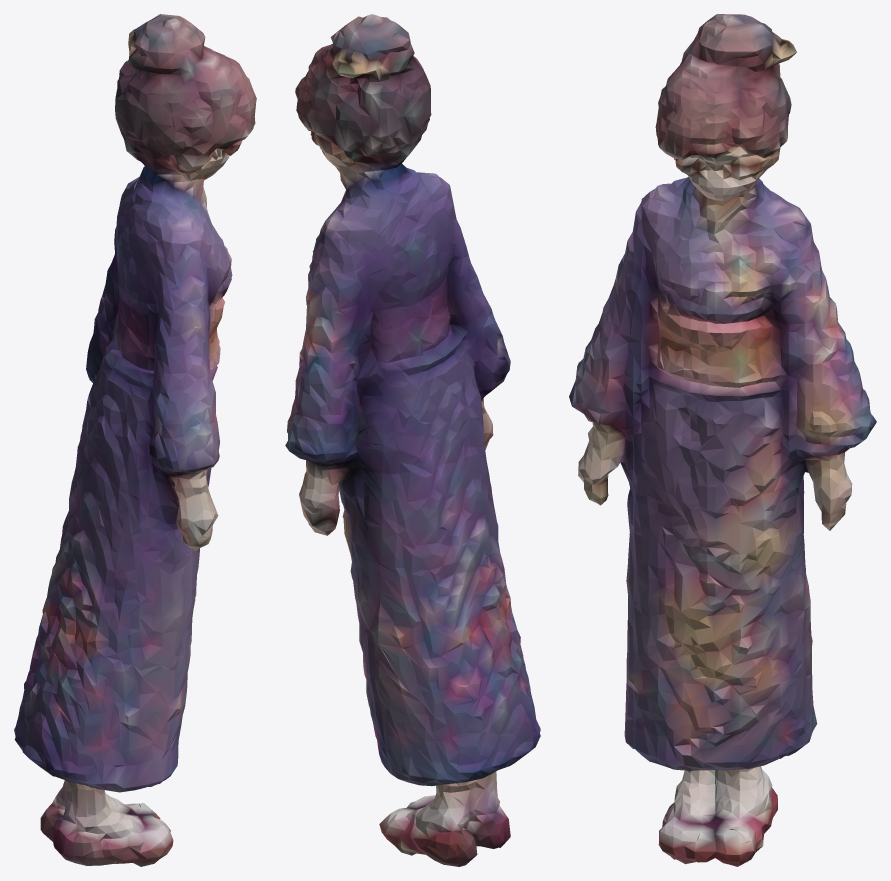
The model's file is npc-hanabi-yukata.glb.
The picture shows the model from 3 angles, left to right: view 1: azimuth 30°, elevation 25°; view 2: azimuth 150°, elevation 25°; view 3: azimuth 270°, elevation 25°; orthographic projection. The views are drawn at different scales.
Parts seen in each view (by area): view 1: world; view 2: world; view 3: world.
Boxes of the visible parts, bbox=[...] form: world: bbox=[14, 14, 256, 866]; world: bbox=[285, 14, 540, 866]; world: bbox=[569, 14, 876, 866].
Bounding box in the file's own units: 0.2755 × 0.983 × 0.3158.
